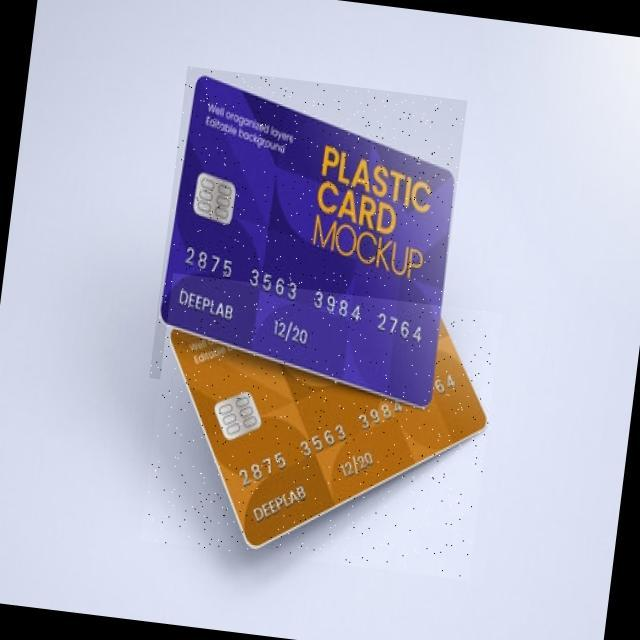payment_card: (157, 65, 466, 410)
